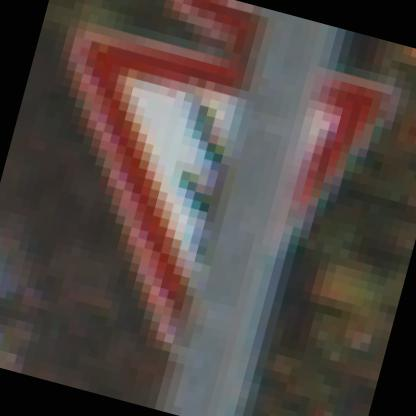crosswalk: (17, 0, 415, 407)
